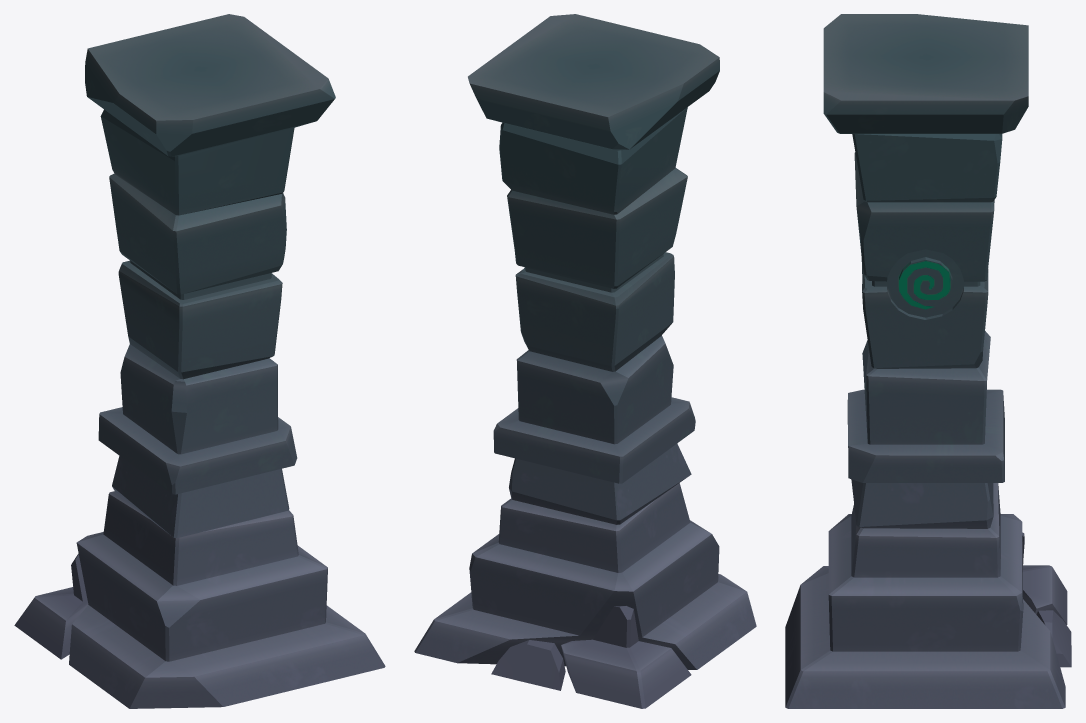
The model's file is pillar0.fbx.
3 views of the same model, side by side, from view 1: azimuth 30°, elevation 25°; view 2: azimuth 150°, elevation 25°; view 3: azimuth 270°, elevation 25° (orthographic). The views are drawn at different scales.
Visible parts, largest first — view 1: BrokenPillar00; view 2: BrokenPillar00; view 3: BrokenPillar00.
Part boxes in pixels (x1=…): BrokenPillar00: x1=14, y1=14, x2=385, y2=708; BrokenPillar00: x1=414, y1=14, x2=756, y2=708; BrokenPillar00: x1=785, y1=14, x2=1071, y2=708.
Bounding box in the file's own units: 448 × 1041 × 456.
1 material, 1 textured.
